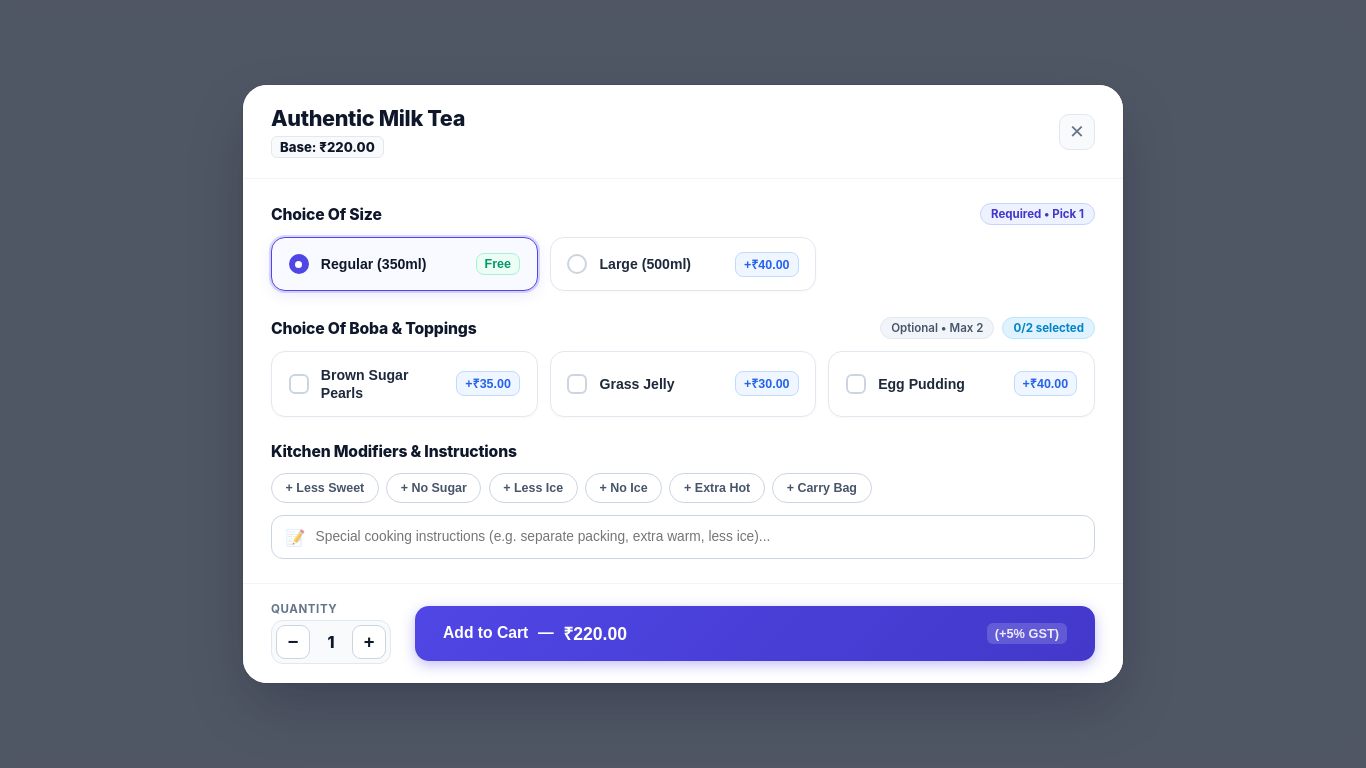
ProductModal Component › enforces min and max selections for multi-choice toppings
The width and height of the screenshot is (1366, 768).
Later steps or results of the test are not shown.
Expected: the text "Optional • Max 2" is shown, [880,317,994,339]
// Select 1st topping: Brown Sugar Pearls (+35)
Click the text "Brown Sugar Pearls" at x=365, y=384, box [321,367,408,401]
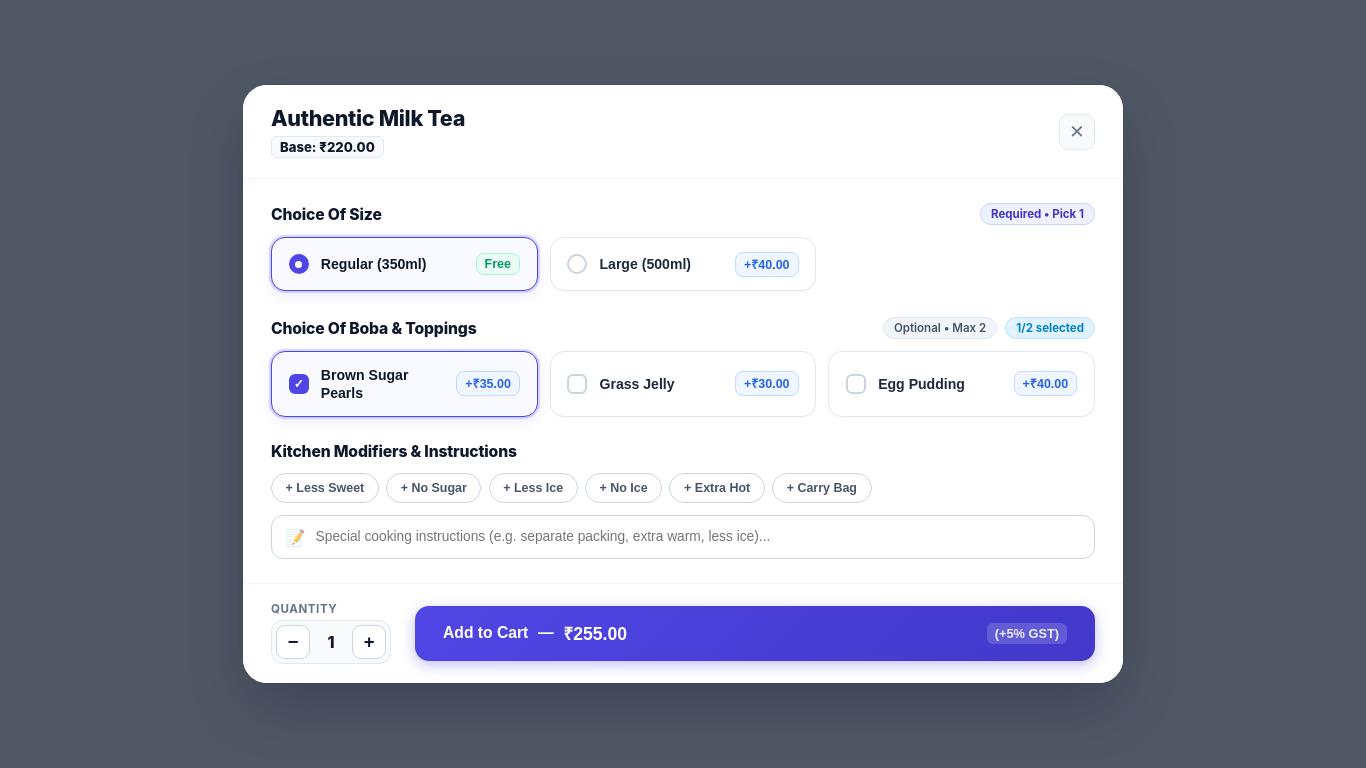
Expected: the text "1/2 selected" is shown, [1005,317,1095,339]
Expected: the button "₹255.00" is shown, [563,621,627,645]
Click the text "Grass Jelly" at x=637, y=384, box [600,375,675,393]
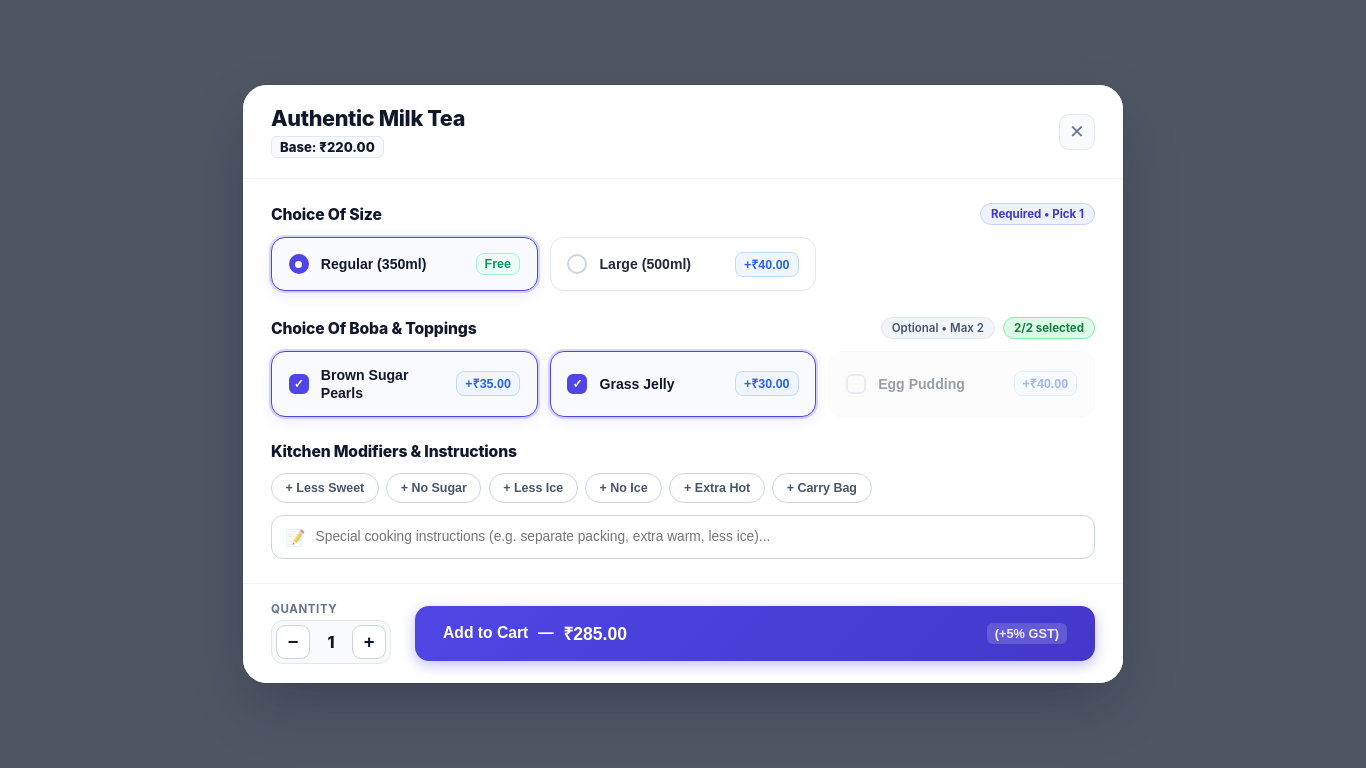
Expected: the text "2/2 selected" is shown, [1003,317,1095,339]
Expected: the button "₹285.00" is shown, [563,621,627,645]
Expected: the button "Egg Pudding +₹40.00" is disabled, [828,351,1095,417]
Click the text "Egg Pudding" at x=922, y=384, box [878,375,965,393]
Expected: the button "₹285.00" is shown, [563,621,627,645]
Click the text "Grass Jelly" at x=637, y=384, box [600,375,675,393]
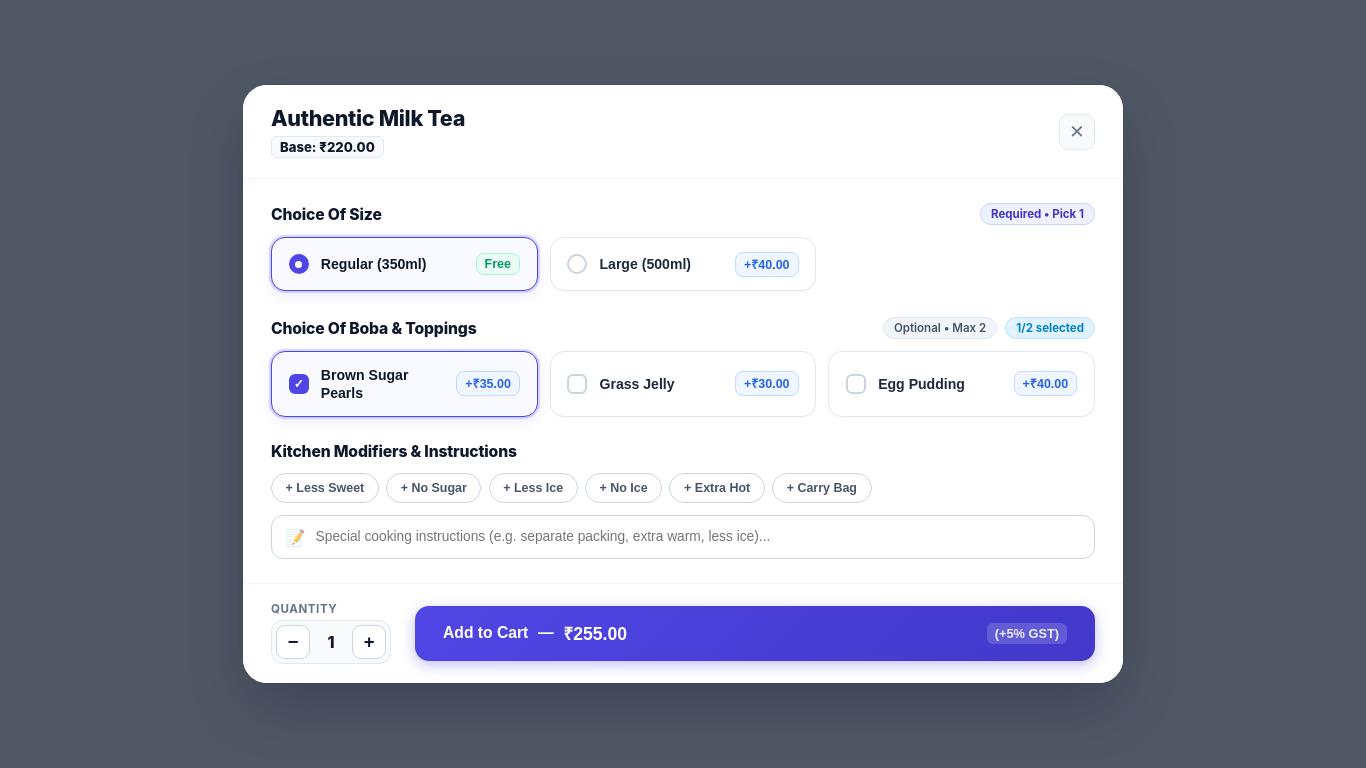
Expected: the text "1/2 selected" is shown, [1005,317,1095,339]
Expected: the button "₹255.00" is shown, [563,621,627,645]
Expected: the button "Egg Pudding +₹40.00" is enabled, [828,351,1095,417]
Click the text "Egg Pudding" at x=922, y=384, box [878,375,965,393]
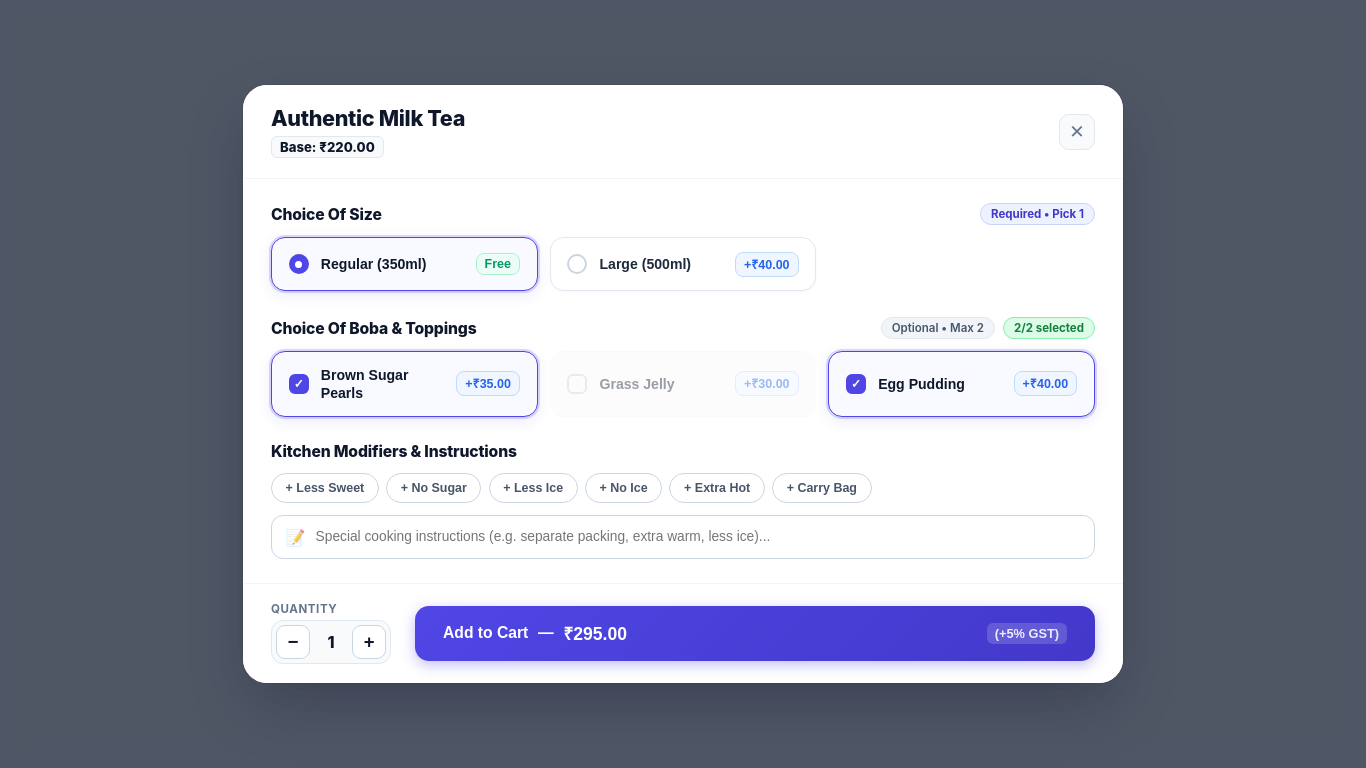
Expected: the text "2/2 selected" is shown, [1003,317,1095,339]
Expected: the button "₹295.00" is shown, [563,621,627,645]
